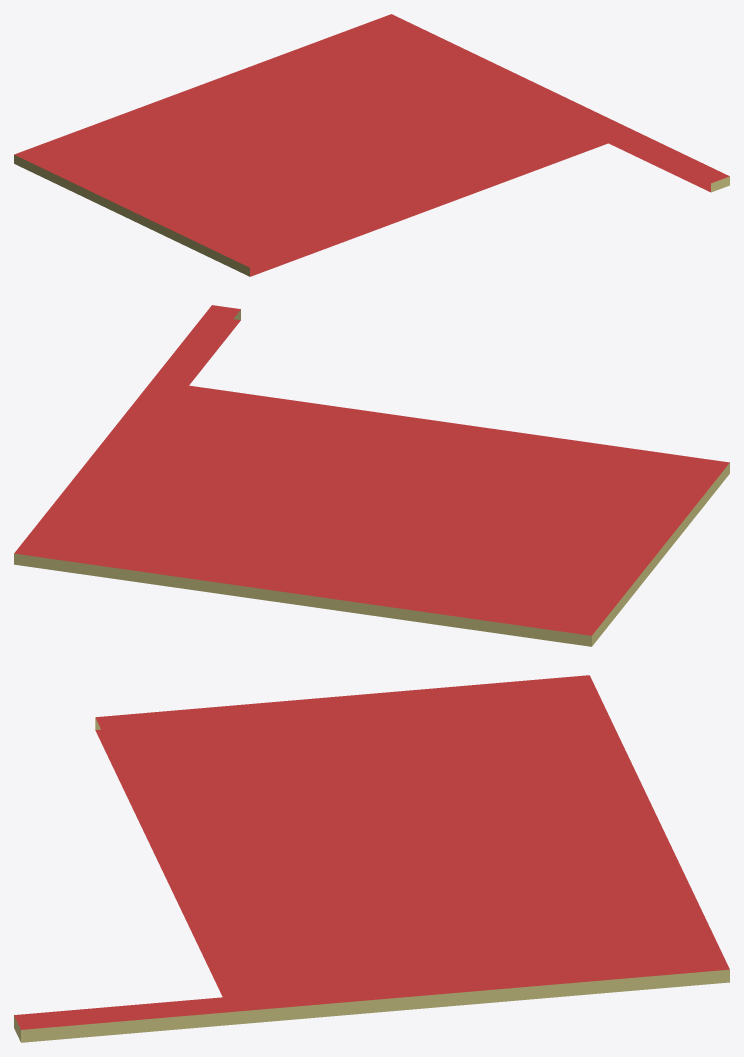
3 renders of one model, top to bottom at view 1: azimuth 30°, elevation 25°; view 2: azimuth 150°, elevation 25°; view 3: azimuth 270°, elevation 25°, orthographic. The views are drawn at different scales.
Bounding box in the file's own units: 5.89 × 5.03 × 0.1.
